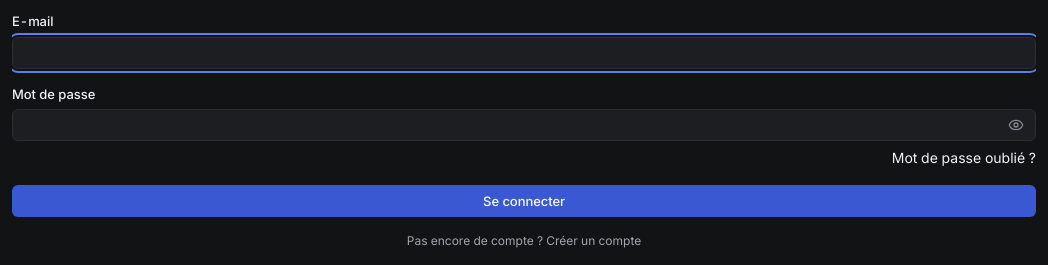
Scenario: <LoginForm> › disables inputs while submitting
The width and height of the screenshot is (1048, 265).
Step 1. Type "alex@example.com" into the field labelled "E-mail" → {"x": 524, "y": 53}, box [12,37,1036,69]
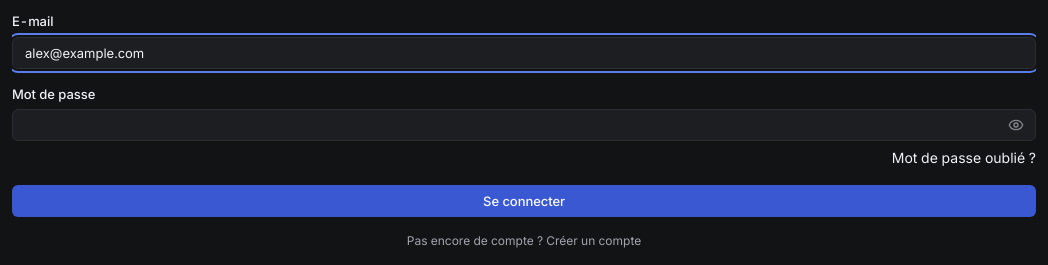
Step 2. Type "hunter2" into the password field labelled "Mot de passe" → {"x": 524, "y": 125}, box [12,109,1036,141]
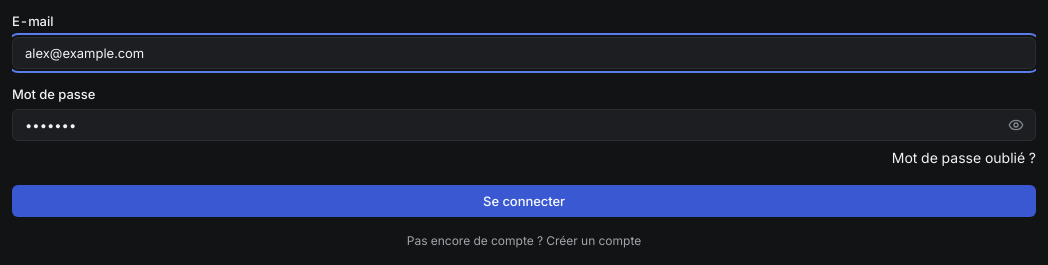
Step 3. Click the button "Se connecter" → {"x": 524, "y": 201}, box [12,185,1036,217]
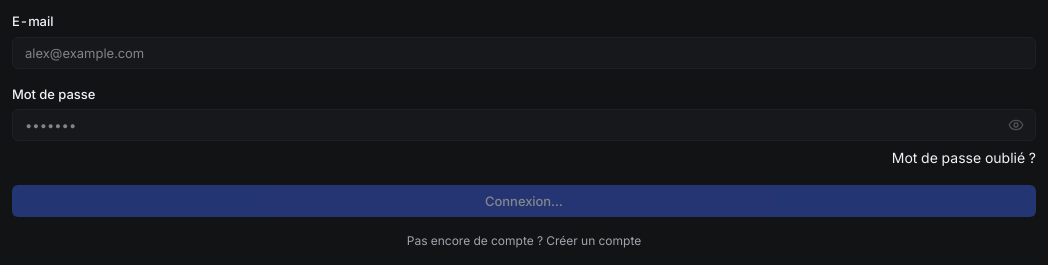
Check: the field labelled "E-mail" is disabled, box [12,37,1036,69]
